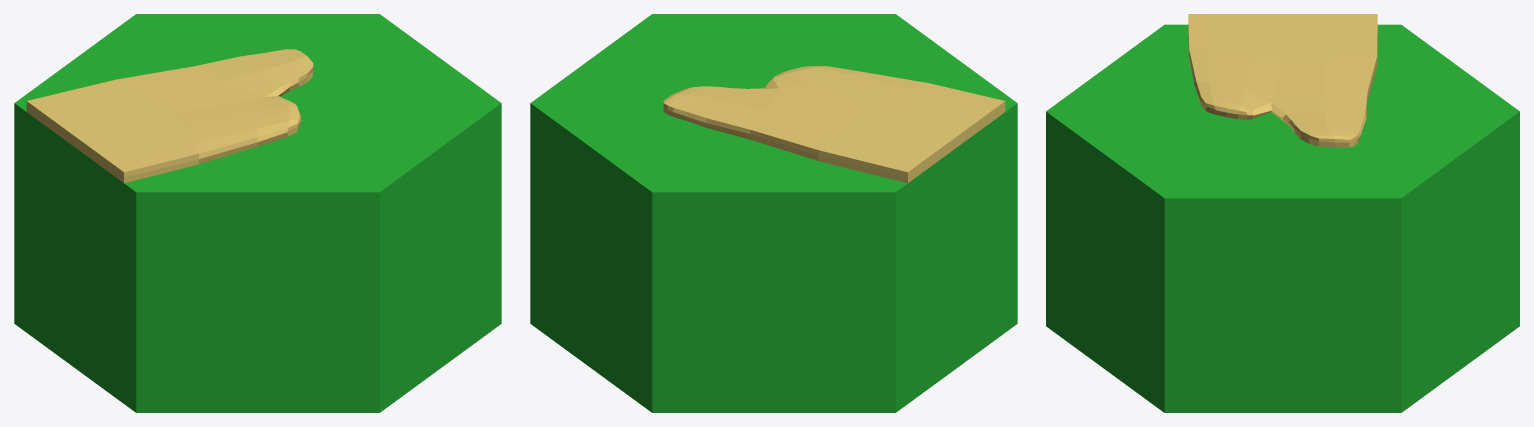
Rendered from path-end_corner.glb.
The picture shows the model from 3 angles, left to right: view 1: azimuth 30°, elevation 25°; view 2: azimuth 150°, elevation 25°; view 3: azimuth 270°, elevation 25°; orthographic projection. The views are drawn at different scales.
Parts seen in each view (by area): view 1: path-end_corner; view 2: path-end_corner; view 3: path-end_corner.
Part boxes in pixels (x1,y1,x2,y2): path-end_corner: (14, 14, 501, 412); path-end_corner: (530, 14, 1017, 412); path-end_corner: (1046, 14, 1519, 412).
Size of the model in its own units: 0.866 by 0.525 by 1.
